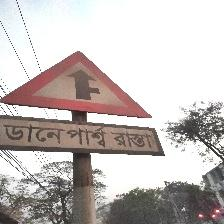Side-road-right: (0, 49, 159, 154)
